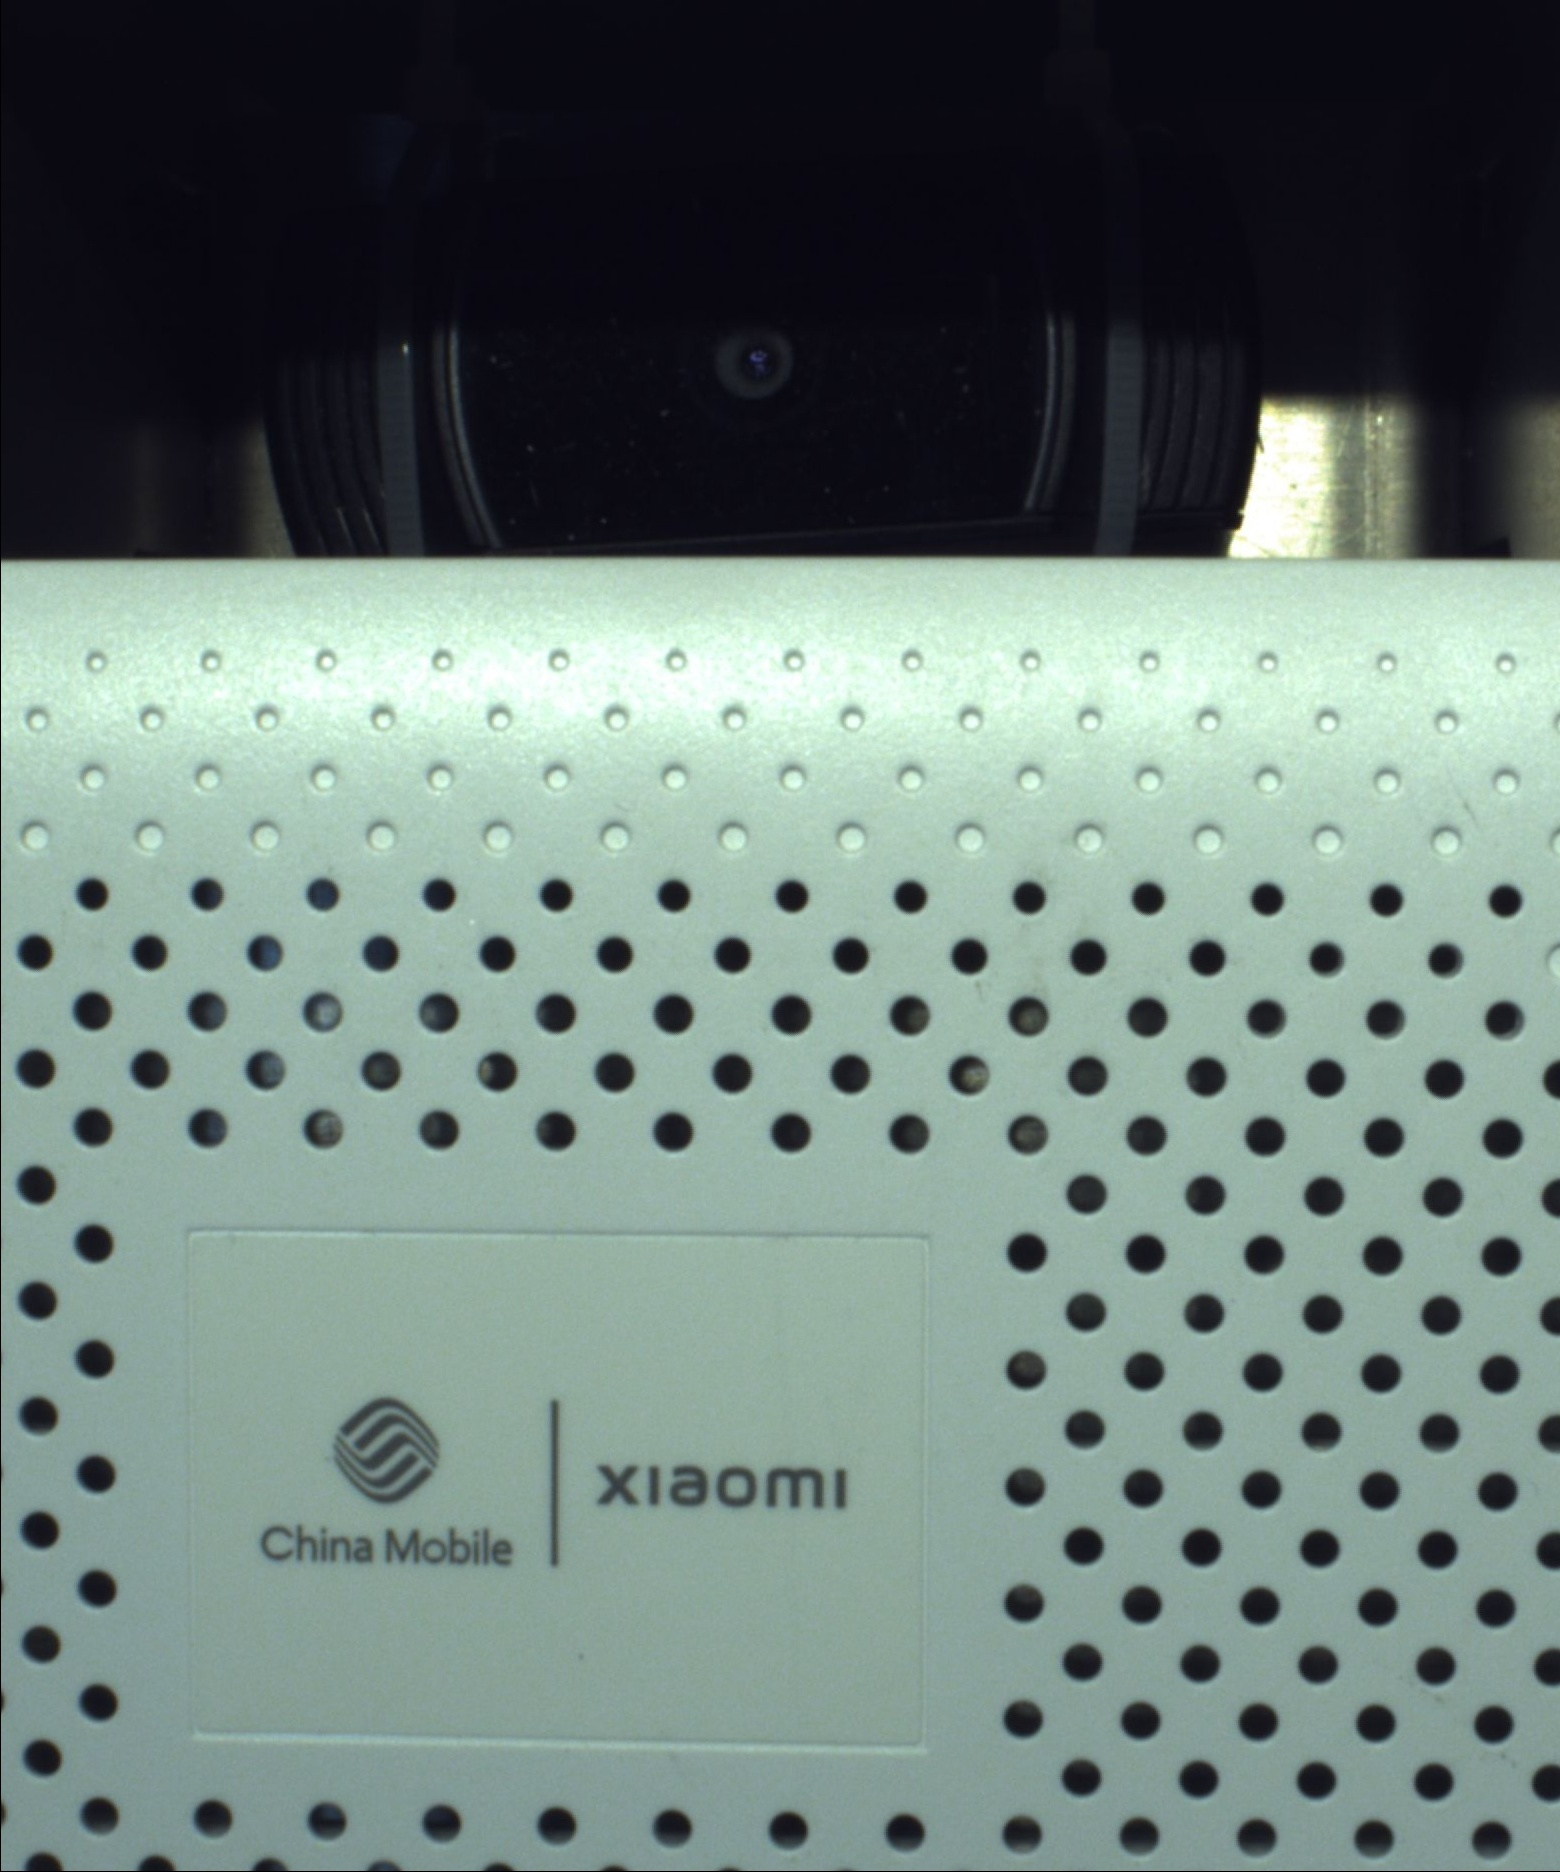MAD_ChinaMobile: (257, 1378, 883, 1587)
